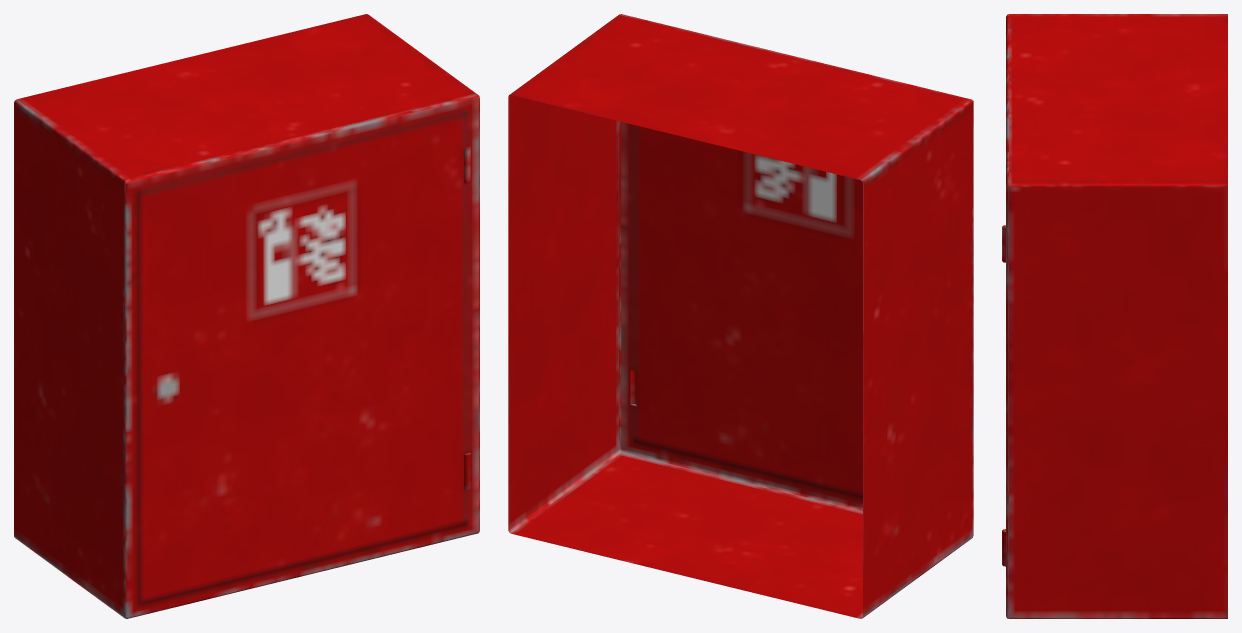
The model's file is extinguisher_box.1411609535.glb.
3 views of the same model, side by side, from view 1: azimuth 30°, elevation 25°; view 2: azimuth 150°, elevation 25°; view 3: azimuth 270°, elevation 25° (orthographic).
Visible parts, largest first — view 1: extinguisher_box; view 2: extinguisher_box; view 3: extinguisher_box.
Boxes of the visible parts, x1,y1,x2,y2 form: extinguisher_box: (14, 14, 479, 618); extinguisher_box: (508, 14, 973, 618); extinguisher_box: (1002, 14, 1227, 618).
Bounding box in the file's own units: 0.55 × 0.65 × 0.3053.
Materials: 1 (1 with a texture image).
